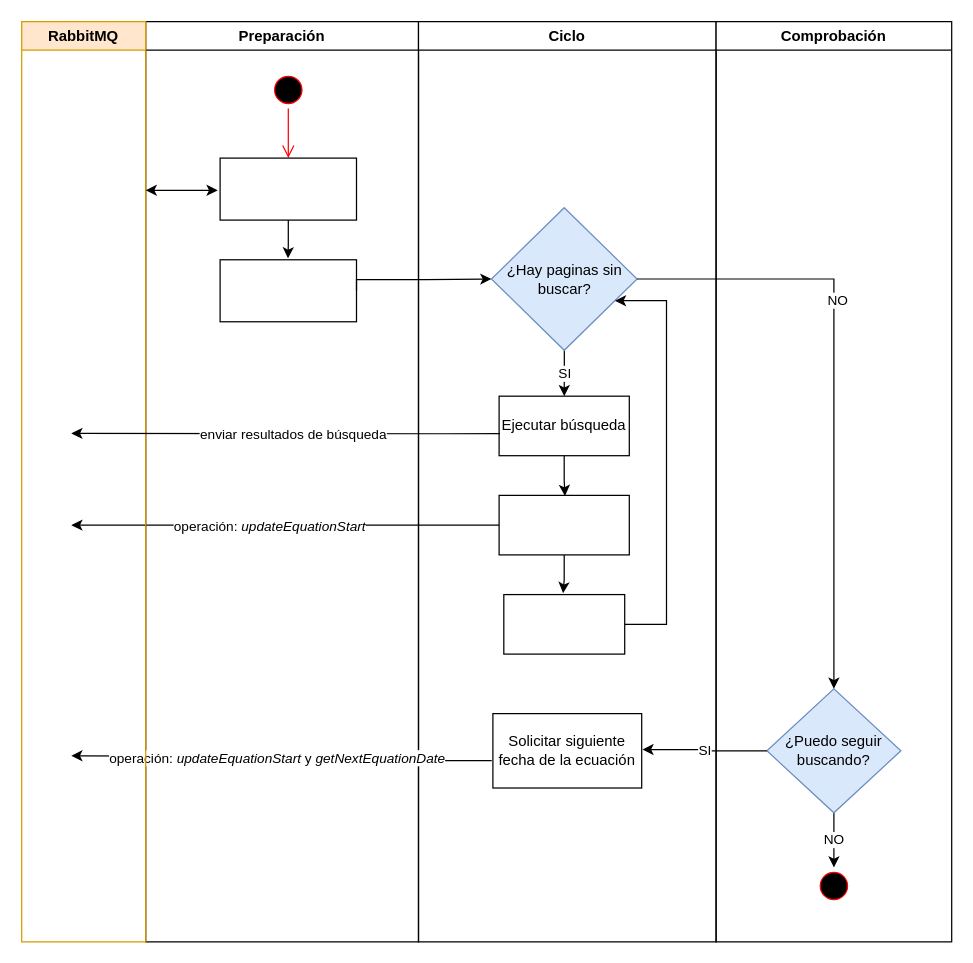
Image size: 973x963. Some labels were removed from this diagram. Here are the shapes that lost their labels. From the top down, the centre of each, then its label:
At point 287,188: "Conectarse a RabbitMQ".
At point 287,290: "Consumir la ecuación de búsqueda".
At point 563,524: "Actualizar el índice de búsqueda".
At point 564,623: "Dormir por N segundos".
